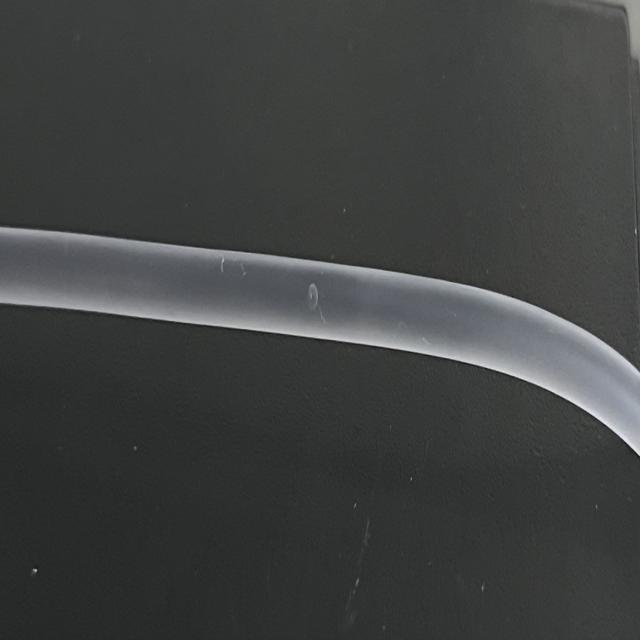bubble: (300, 254, 329, 332)
